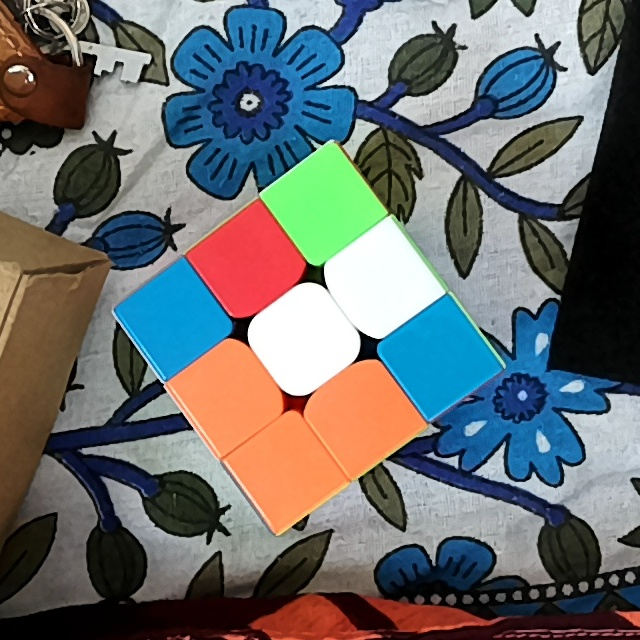tile: (290, 174, 355, 238), (331, 385, 394, 451), (346, 253, 412, 315), (216, 232, 279, 294), (199, 365, 262, 427), (408, 328, 470, 390), (253, 441, 315, 503), (144, 288, 204, 351), (273, 310, 335, 369)
